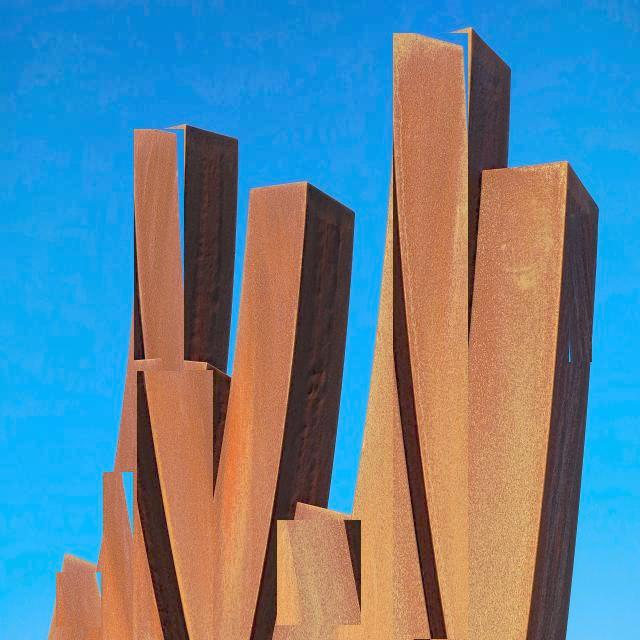Corrosion: (49, 30, 599, 640)
